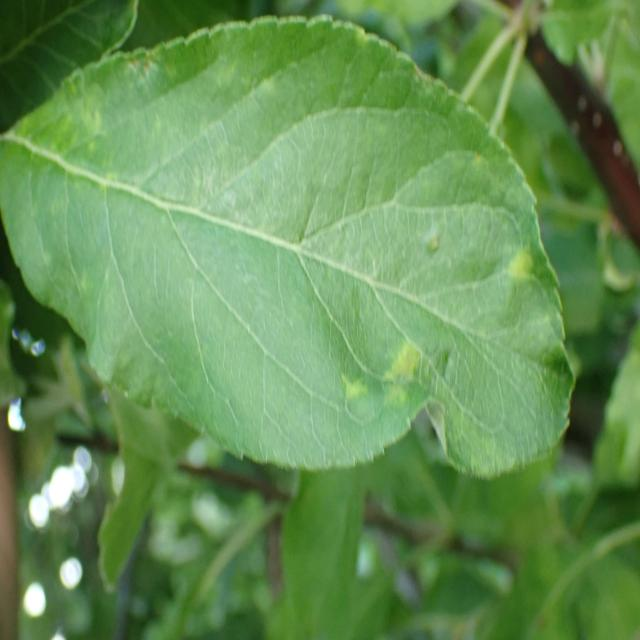scab: (39, 47, 562, 443)
